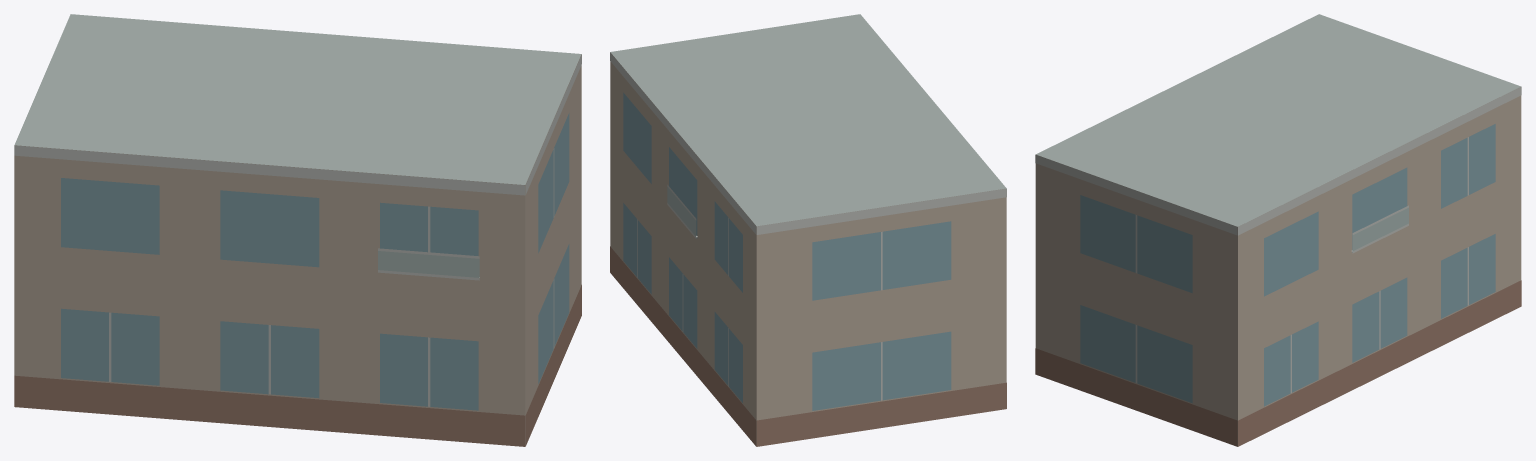
File: survey-upis-32714889.glb
3 renders of one model, left to right at view 1: azimuth 30°, elevation 25°; view 2: azimuth 150°, elevation 25°; view 3: azimuth 270°, elevation 25°, orthographic. The views are drawn at different scales.
Parts seen in each view (by area): view 1: survey-upis-32714889.tmp; view 2: survey-upis-32714889.tmp; view 3: survey-upis-32714889.tmp.
Boxes of the visible parts, x1,y1,x2,y2 form: survey-upis-32714889.tmp: (14,14,581,446); survey-upis-32714889.tmp: (610,14,1006,446); survey-upis-32714889.tmp: (1035,14,1521,446).
Size of the model in its own units: 12.67 by 6.1 by 12.22.
